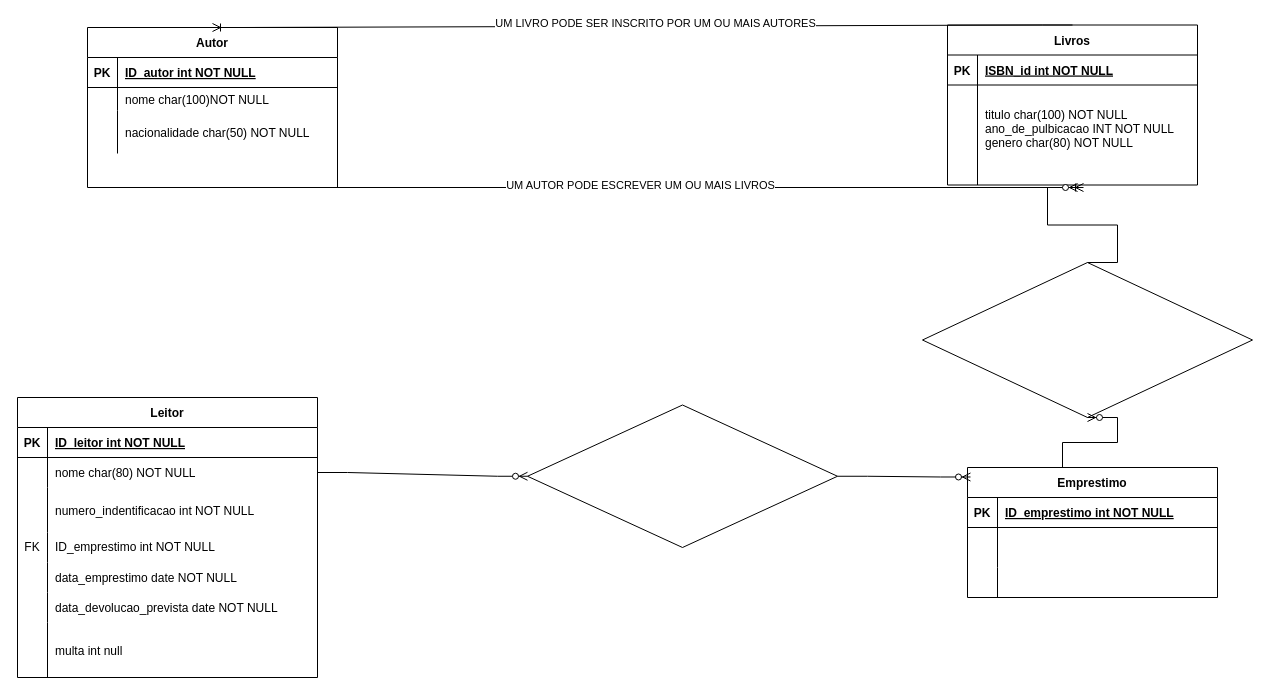
The diagram is 1270 pixels wide and 695 high, and some of its shapes have lost their labels. The shapes that lost their labels are listed below. From the top down, each one's centre as x and y in pixels, then its label:
At pixel 1087 340: "Um livro pode ser emprestado 0 ou mais vezes".
At pixel 682 476: "Um leitor pode realizar zero ou mais emprestimos".
